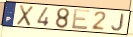2: (91, 11, 107, 31)
4: (36, 7, 51, 28)
8: (55, 7, 71, 29)
E: (71, 8, 92, 31)
J: (110, 13, 125, 33)
X: (15, 4, 35, 28)
